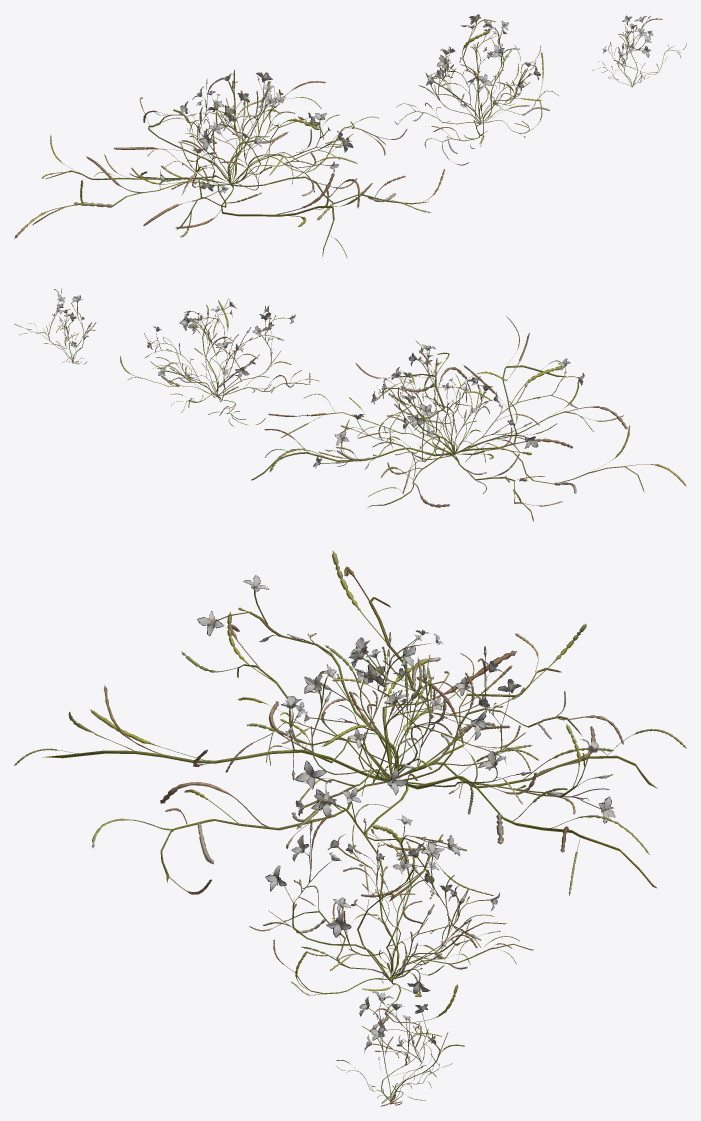
The model's file is flower_heliophila_1k.glb.
The picture shows the model from 3 angles, top to bottom: view 1: azimuth 30°, elevation 25°; view 2: azimuth 150°, elevation 25°; view 3: azimuth 270°, elevation 25°; orthographic projection. The views are drawn at different scales.
Visible parts, largest first — view 1: flower_heliophila_large; view 2: flower_heliophila_large; view 3: flower_heliophila_large.
Boxes of the visible parts, x1=… form: flower_heliophila_large: x1=14, y1=14, x2=686, y2=258; flower_heliophila_large: x1=14, y1=288, x2=686, y2=521; flower_heliophila_large: x1=14, y1=550, x2=686, y2=1106.
Bounding box in the file's own units: 2.75 × 0.3994 × 1.42.
1 material, 1 textured.
